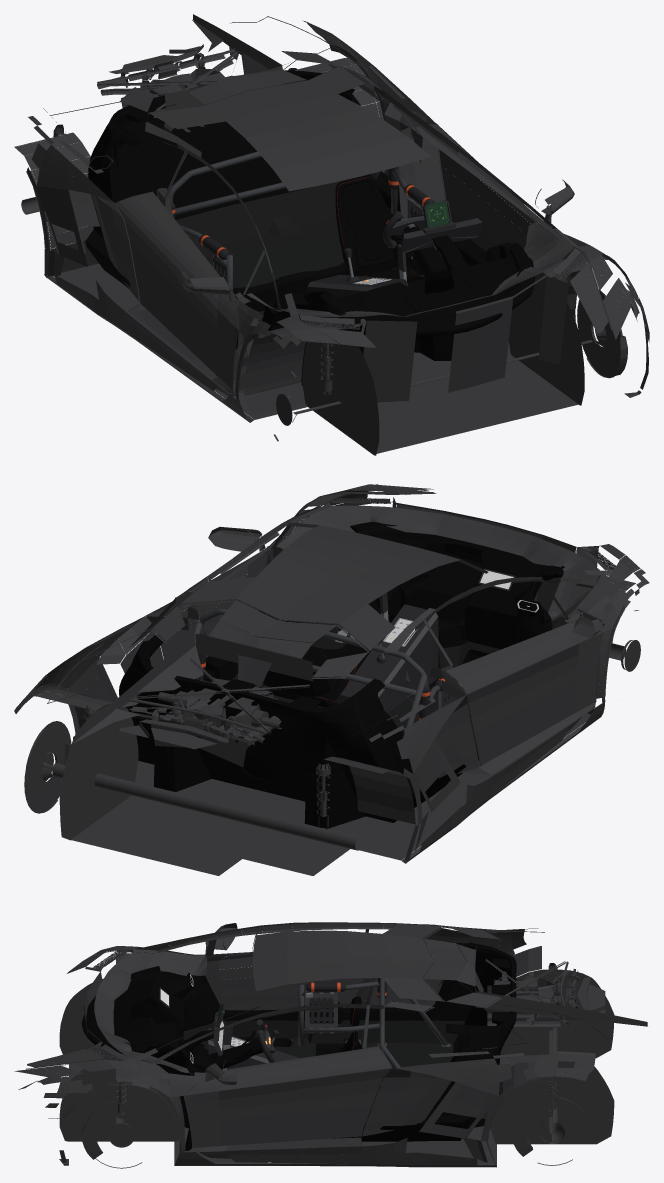
Rendered from v3_cockpit.fbx.
The picture shows the model from 3 angles, top to bottom: view 1: azimuth 30°, elevation 25°; view 2: azimuth 150°, elevation 25°; view 3: azimuth 270°, elevation 25°; orthographic projection. The views are drawn at different scales.
Parts seen in each view (by area): view 1: Body_Interior, interior.021, interior, interior.036, interior.039, interior.032, Cowl_Bridge, interior.046, RollCage, interior.003, interior.038, Int_C_009 (+9 smaller); view 2: Body_Interior, interior.039, interior, Cowl_Bridge, interior.036, interior.034, CentreConsole, interior.040, interior.021, RollCage, interior.038, interior.003 (+2 smaller); view 3: Body_Interior, interior.036, interior.021, Cowl_Bridge, interior, interior.039, RollCage, interior.037, interior.040, DoorNet_L, interior.034, interior.032 (+6 smaller).
Part boxes in pixels (x1,y1,x2,y2): Body_Interior: (14,14,649,455); interior.021: (175,181,468,324); interior: (88,70,360,216); interior.036: (274,242,533,353); interior.039: (85,159,399,288); interior.032: (340,266,534,335); Cowl_Bridge: (246,223,571,317); interior.046: (343,181,386,260); RollCage: (168,151,436,304); interior.003: (335,175,411,272); interior.038: (159,83,245,168); Int_C_009: (233,251,423,311); Body_Interior: (14,484,649,875); interior.039: (132,720,438,828); interior: (119,655,408,776); Cowl_Bridge: (277,505,599,629); interior.036: (350,522,563,649); interior.034: (411,537,507,647); CentreConsole: (337,604,438,713); interior.040: (130,634,385,721); interior.021: (230,622,526,732); RollCage: (193,608,467,738); interior.038: (190,679,272,744); interior.003: (255,635,329,697); Body_Interior: (14,922,647,1168); interior.036: (115,966,214,1097); interior.021: (183,1020,465,1107); Cowl_Bridge: (94,951,207,1073); interior: (438,954,516,1098); interior.039: (416,999,488,1141); RollCage: (298,978,450,1088); interior.037: (286,1001,416,1141); interior.040: (446,941,511,1048); DoorNet_L: (305,992,337,1033); interior.034: (115,997,204,1047); interior.032: (81,974,131,1054).
Size of the model in its own units: 996 by 460 by 1739.
